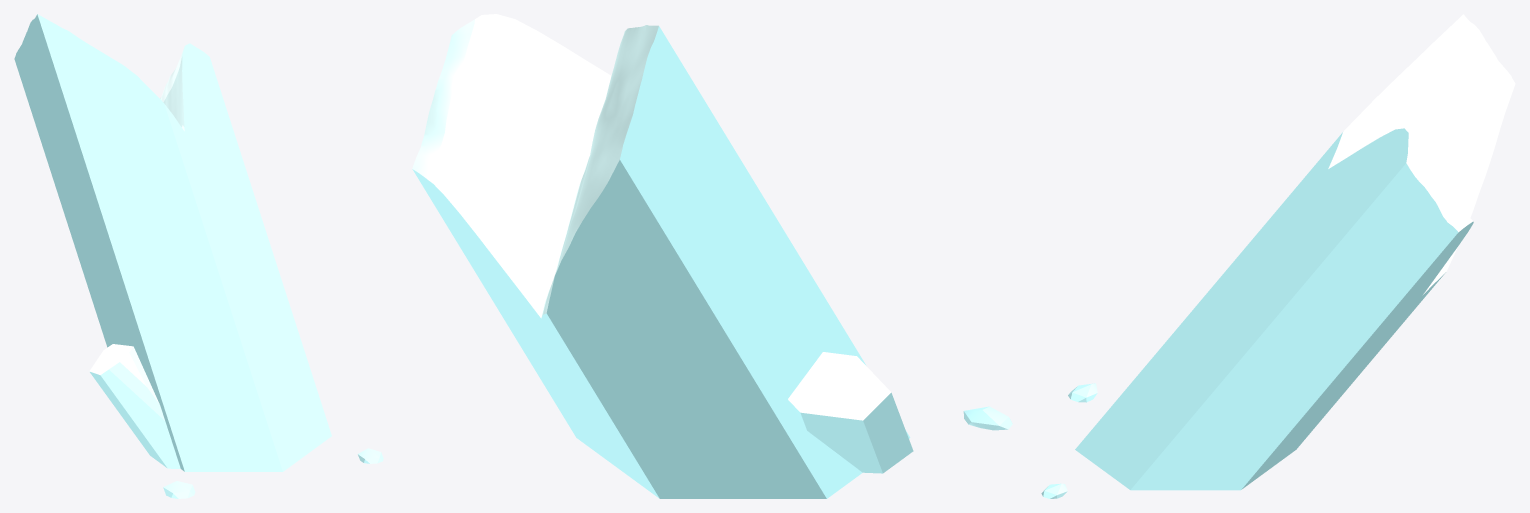
File: fruit_crystal_b_wreck.glb
The picture shows the model from 3 angles, left to right: view 1: azimuth 30°, elevation 25°; view 2: azimuth 150°, elevation 25°; view 3: azimuth 270°, elevation 25°; orthographic projection. The views are drawn at different scales.
Visible parts, largest first — view 1: fruit_crystal_b_wreck; view 2: fruit_crystal_b_wreck; view 3: fruit_crystal_b_wreck.
Boxes of the visible parts, x1,y1,x2,y2 form: fruit_crystal_b_wreck: [14, 14, 383, 498]; fruit_crystal_b_wreck: [412, 14, 1012, 498]; fruit_crystal_b_wreck: [1041, 14, 1515, 498].
Size of the model in its own units: 7.37 by 12.21 by 13.28.
